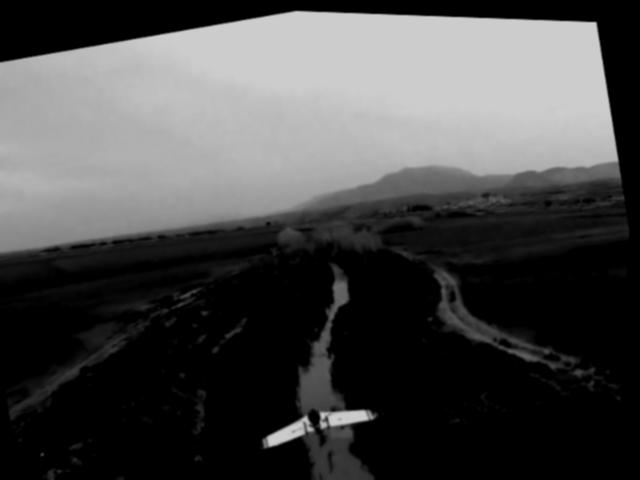hedef: (251, 378, 389, 460)
